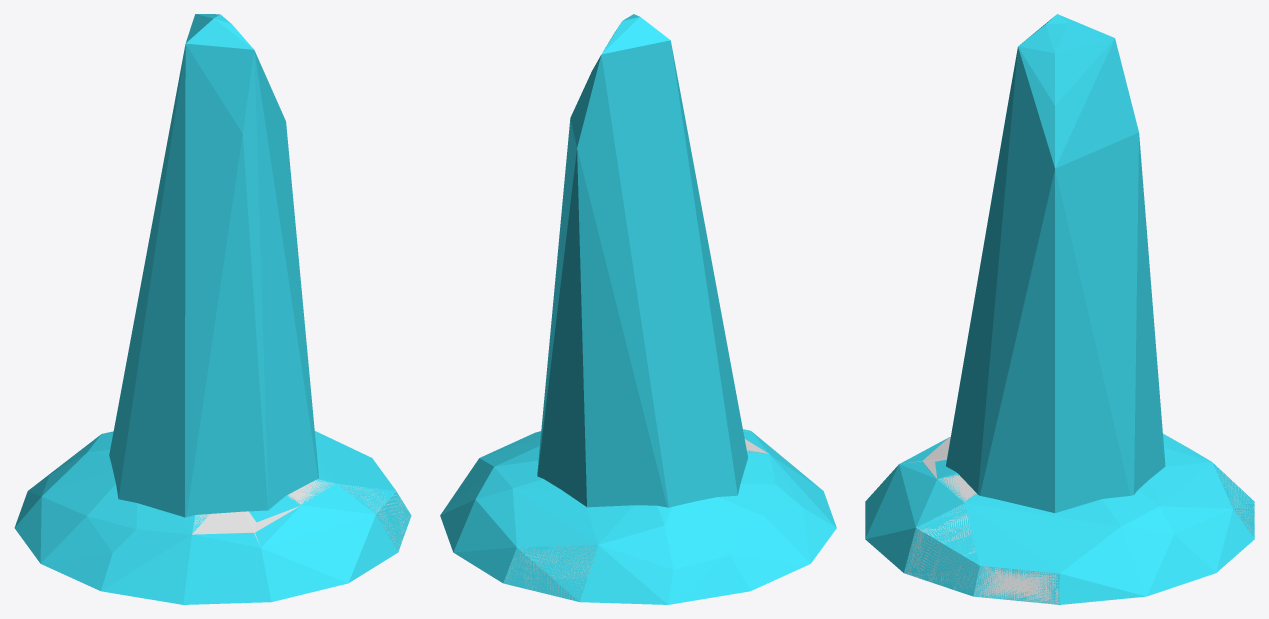
Rendered from Ice_Shard.fbx.
3 renders of one model, left to right at view 1: azimuth 30°, elevation 25°; view 2: azimuth 150°, elevation 25°; view 3: azimuth 270°, elevation 25°, orthographic.
Parts seen in each view (by area): view 1: Col, Snow; view 2: Col, Snow; view 3: Col, Snow.
Boxes of the visible parts, box(x1,y1,x2,y2) form: Col: box(14, 14, 411, 604); Snow: box(192, 479, 410, 550); Col: box(440, 14, 836, 604); Snow: box(505, 431, 768, 600); Col: box(865, 14, 1254, 604); Snow: box(904, 437, 1254, 604).
Bounding box in the file's own units: 0.8 × 1.12 × 0.7799.
Materials: 2 (1 with a texture image).
